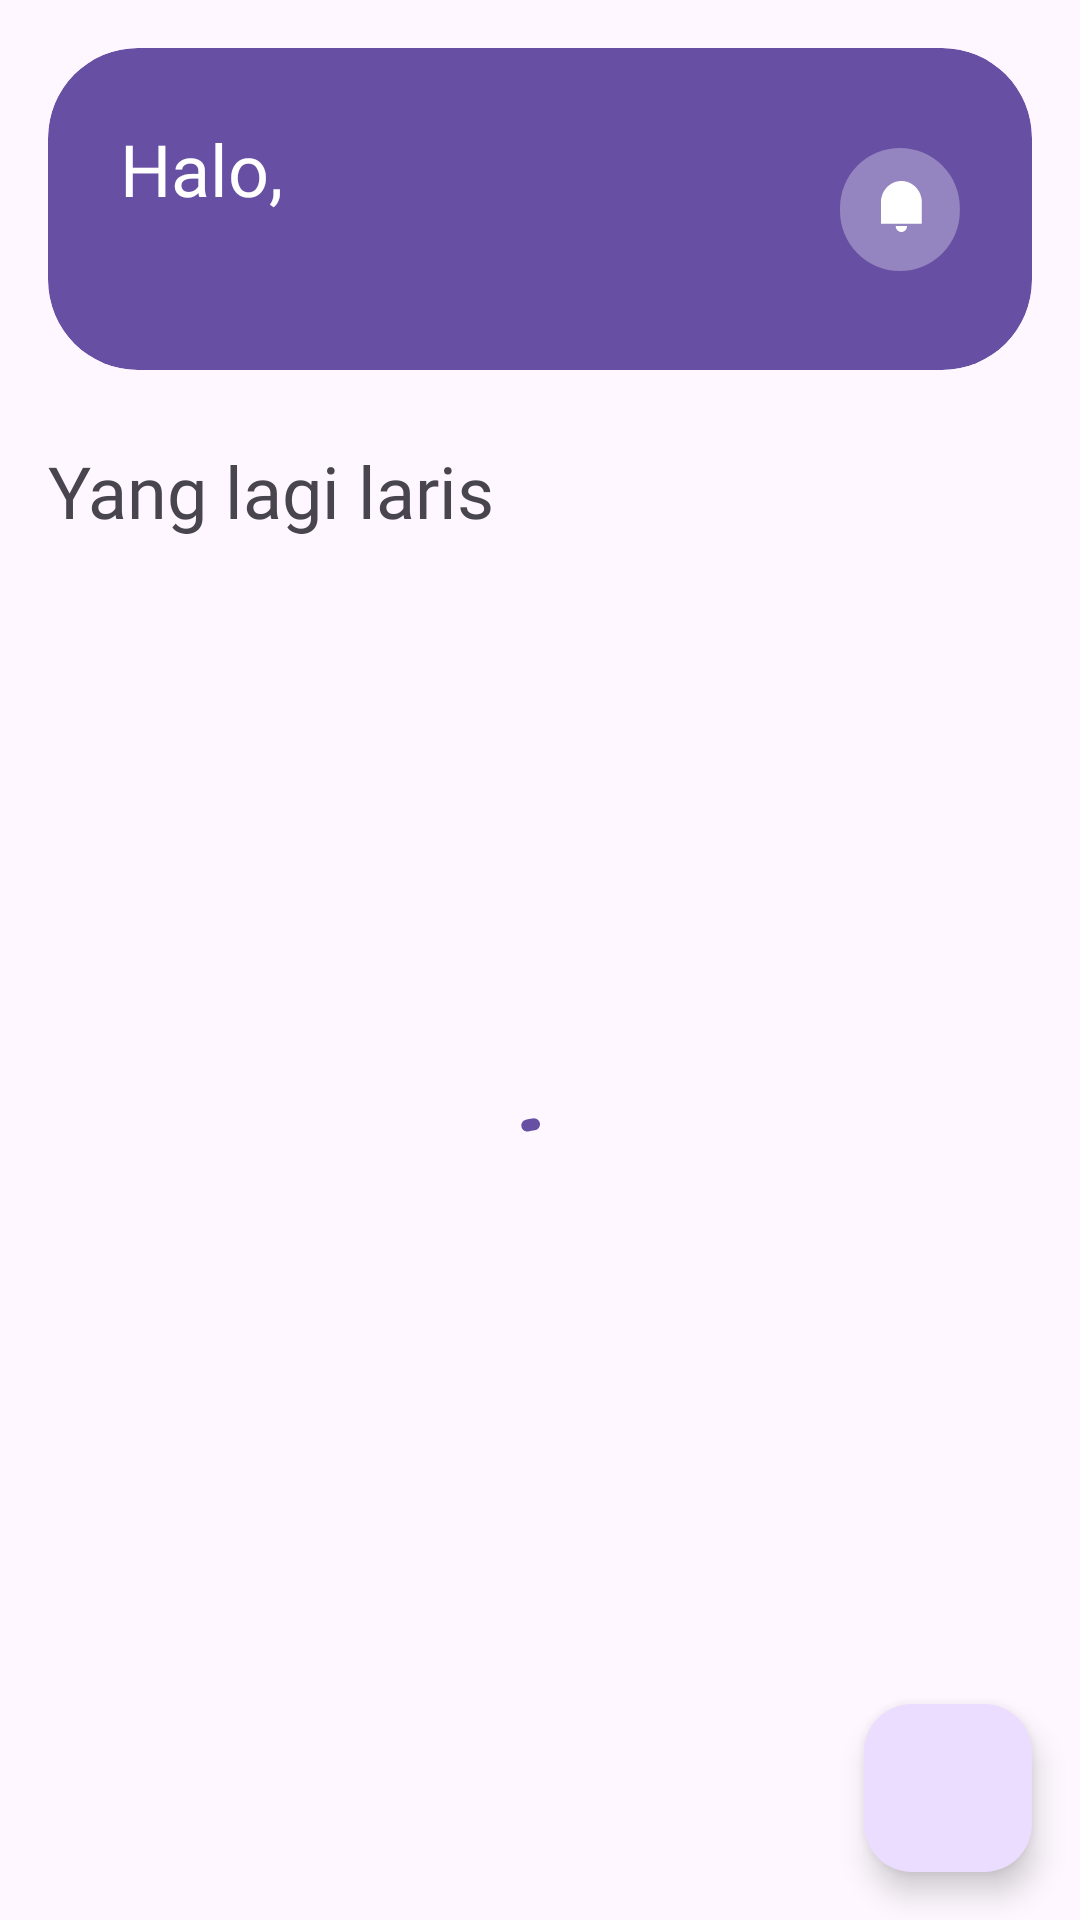

Icons on this 1080w x 1920h Android screen, each with its box as (x1, y1, x2, y2):
ikon untuk notifikasi: (840, 148, 960, 271)
